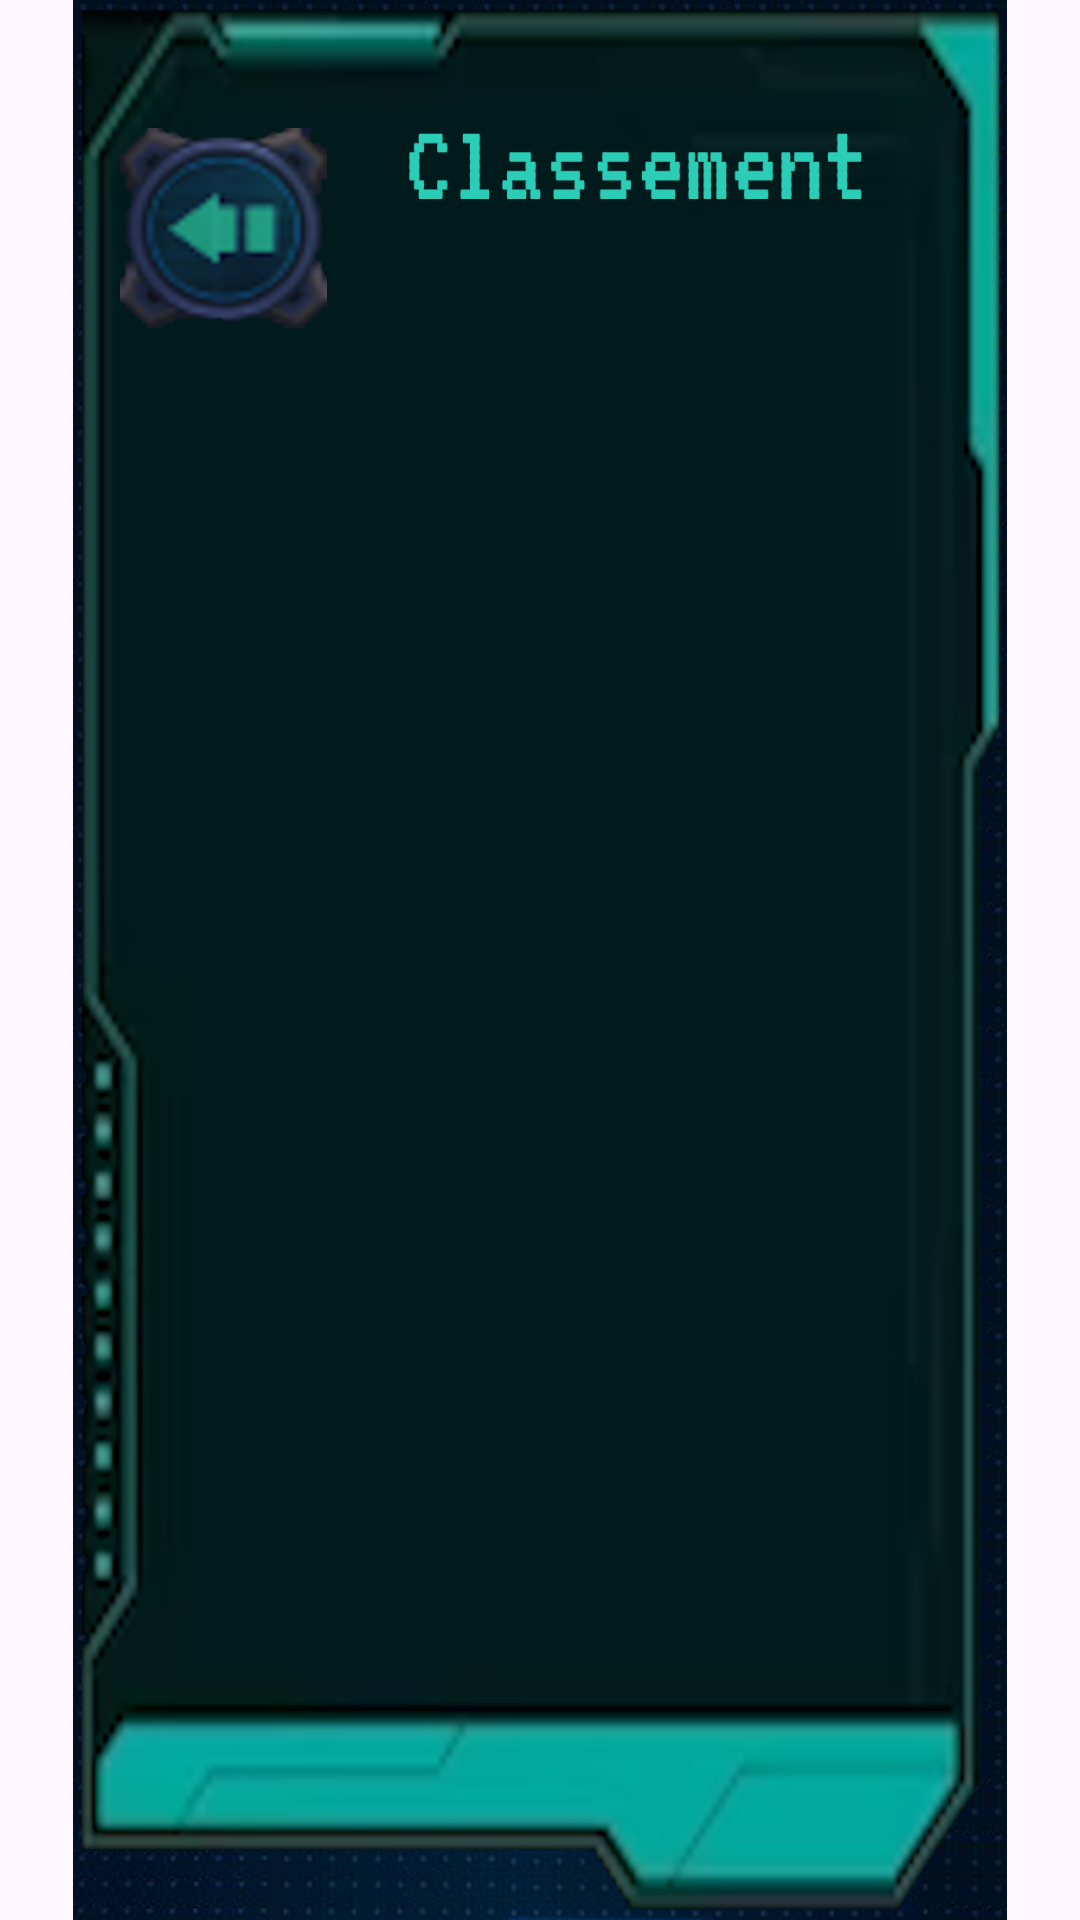

Icons on this 1080w x 1920h Android screen, each with the point to tap as point (x, y):
exit: point (223, 228)
